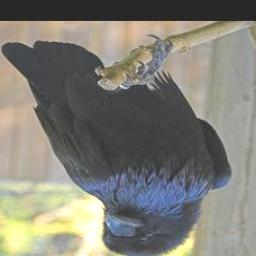Crow: (1, 35, 232, 256)
